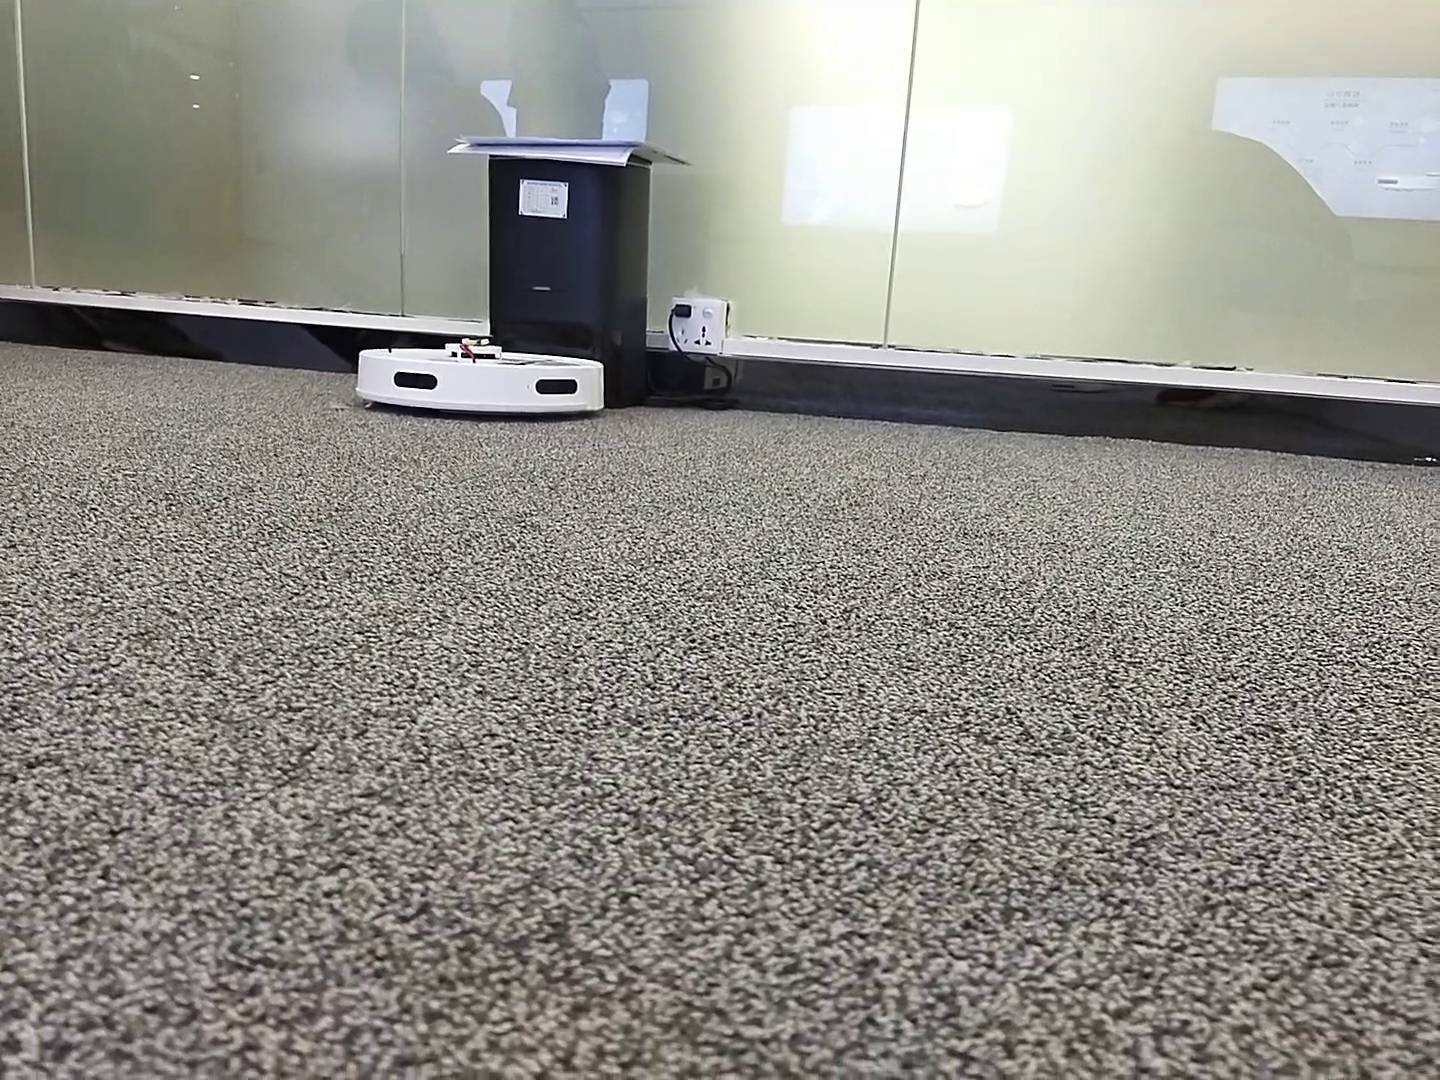dust collecting barrel: (488, 153, 652, 410)
